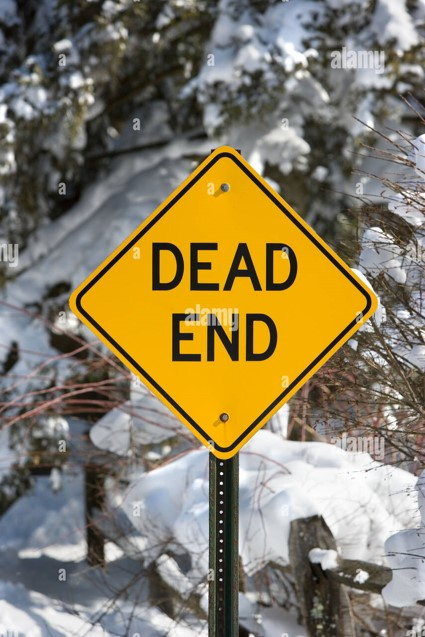Deadend: (68, 146, 379, 459)
